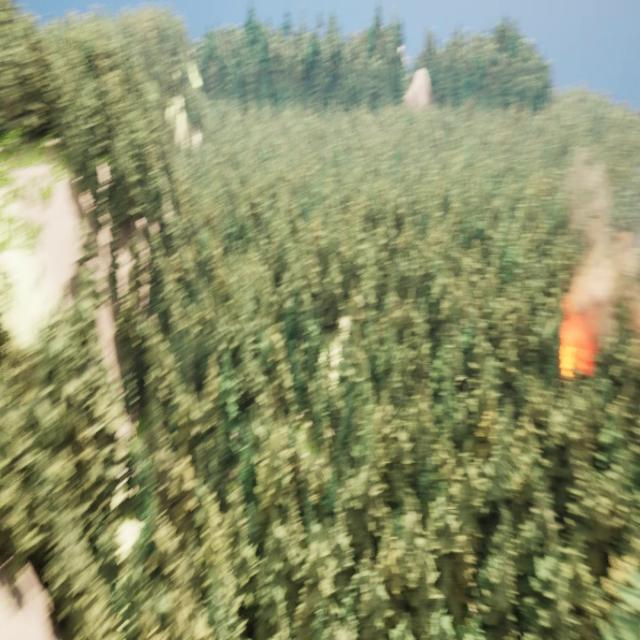fire: (558, 315, 591, 390)
smoke: (567, 145, 639, 340)
